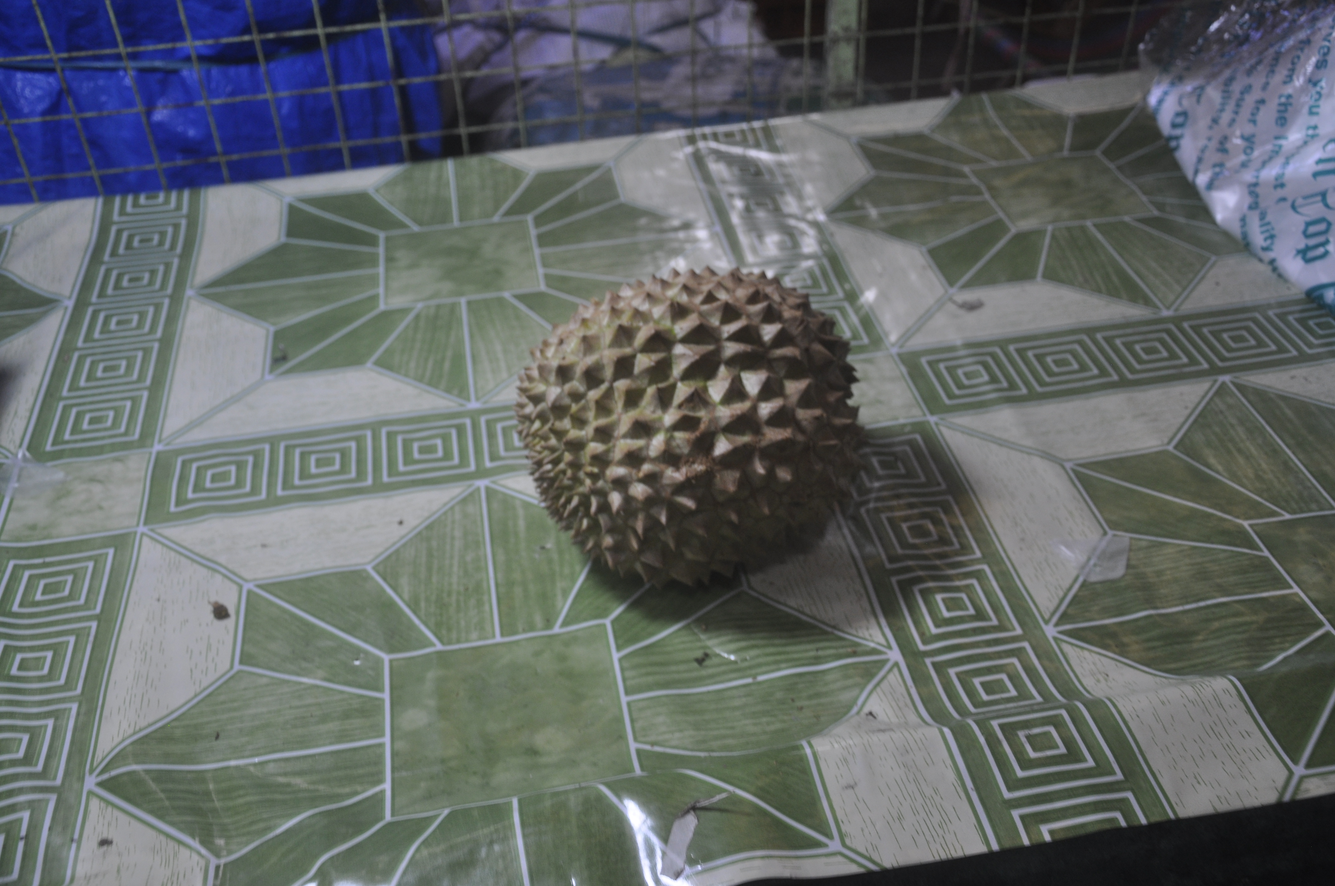mature: (514, 265, 870, 594)
